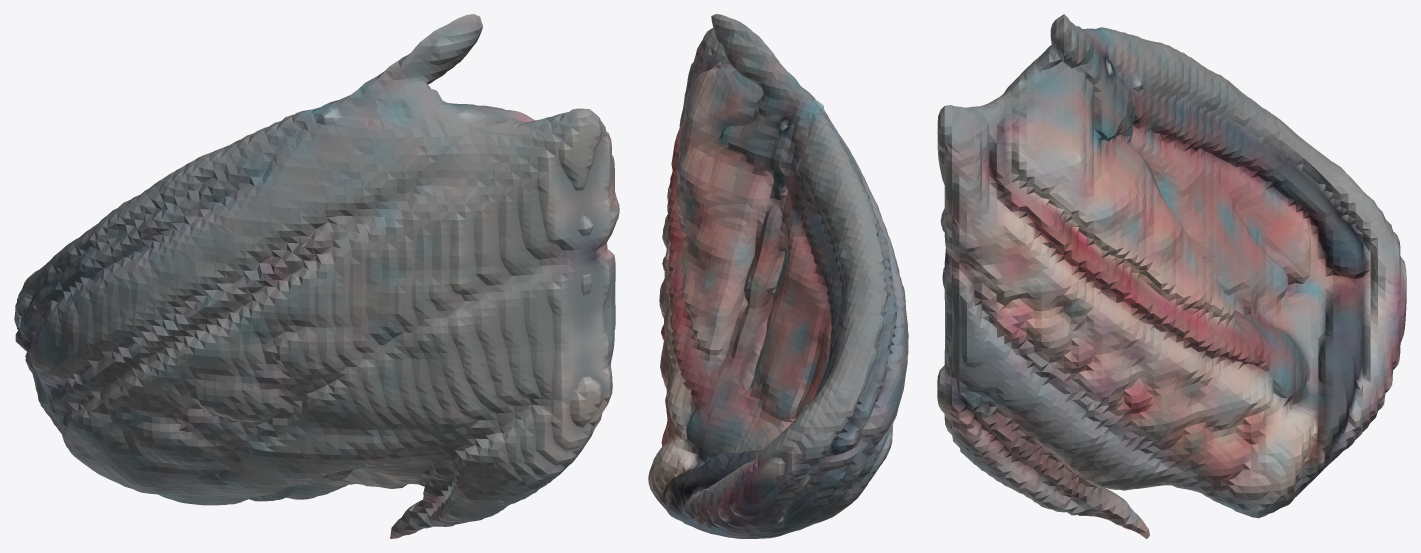
3 views of the same model, side by side, from view 1: azimuth 30°, elevation 25°; view 2: azimuth 150°, elevation 25°; view 3: azimuth 270°, elevation 25° (orthographic). The views are drawn at different scales.
Parts seen in each view (by area): view 1: world; view 2: world; view 3: world.
Part boxes in pixels (x1,y1,x2,y2): world: [14, 14, 619, 538]; world: [648, 14, 908, 538]; world: [937, 14, 1406, 538].
Size of the model in its own units: 0.4257 by 0.5316 by 0.4285.
